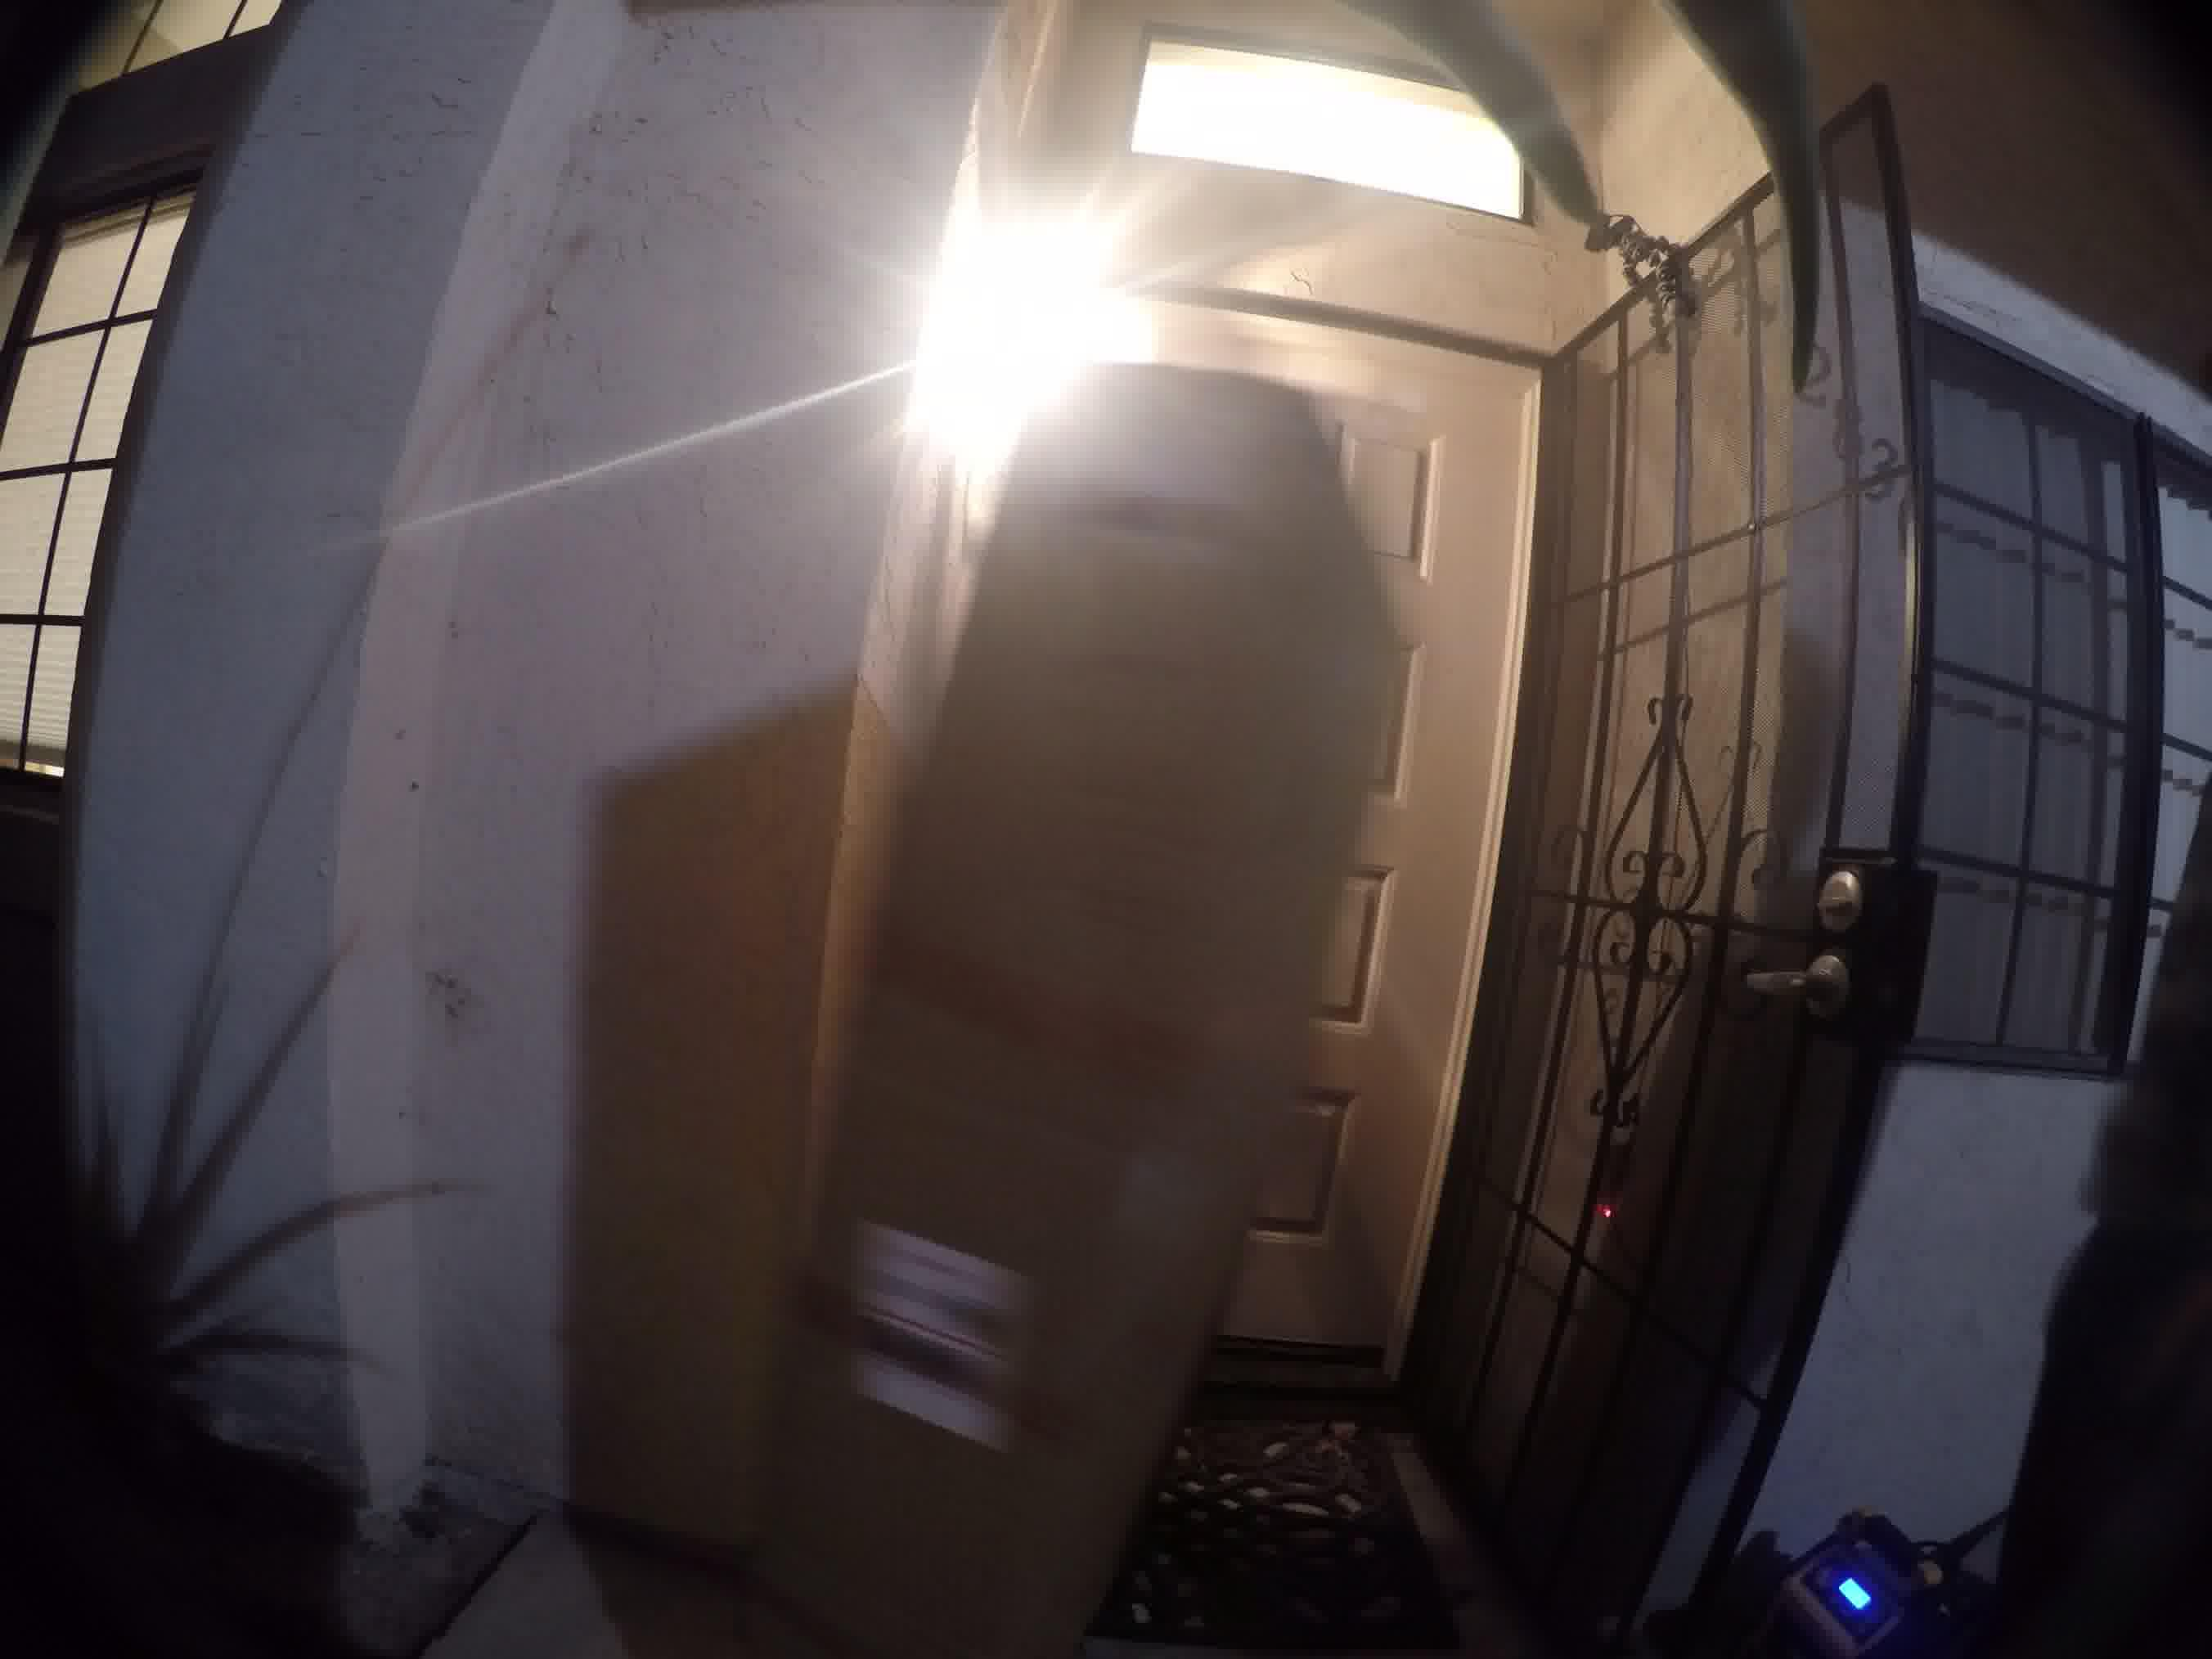box: (782, 436, 1395, 1584)
